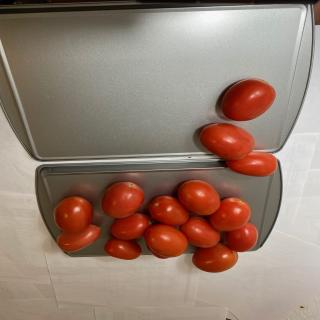Chilli: (53, 179, 259, 273)
Tomato: (221, 78, 276, 121), (200, 123, 256, 160), (53, 196, 94, 234), (144, 224, 188, 259), (102, 182, 144, 218), (178, 180, 221, 215), (209, 197, 251, 232), (192, 243, 238, 273), (56, 224, 101, 253), (148, 195, 190, 226), (180, 216, 220, 248), (225, 152, 278, 176), (110, 213, 152, 240), (225, 222, 258, 252), (104, 237, 142, 260)
